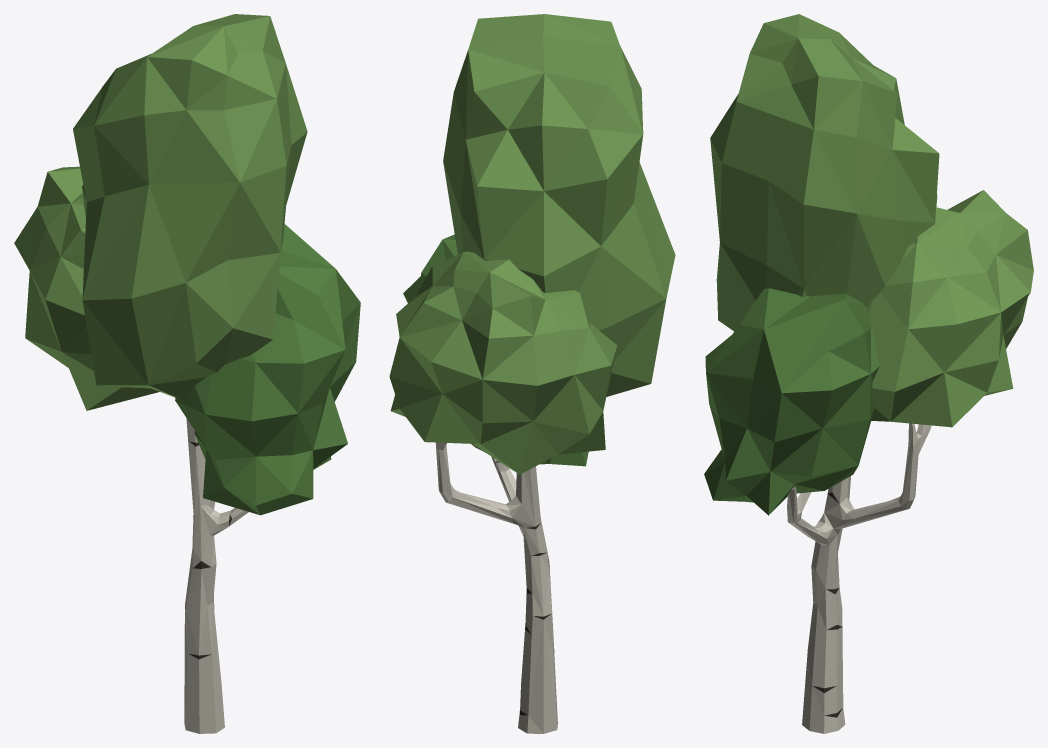
Rendered from BirchTree_3.glb.
3 renders of one model, left to right at view 1: azimuth 30°, elevation 25°; view 2: azimuth 150°, elevation 25°; view 3: azimuth 270°, elevation 25°, orthographic. The views are drawn at different scales.
Visible parts, largest first — view 1: BirchTree_3; view 2: BirchTree_3; view 3: BirchTree_3.
Part boxes in pixels (x1,y1,x2,y2): BirchTree_3: (14,14,360,733); BirchTree_3: (389,14,675,733); BirchTree_3: (704,14,1033,733).
Bounding box in the file's own units: 1.57 × 4.08 × 1.77.
